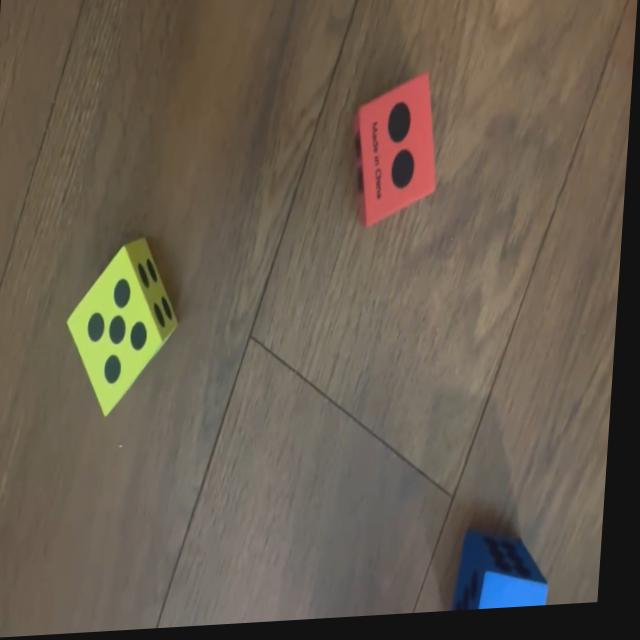blue_block: (465, 535, 561, 617)
red_block: (351, 78, 445, 234)
